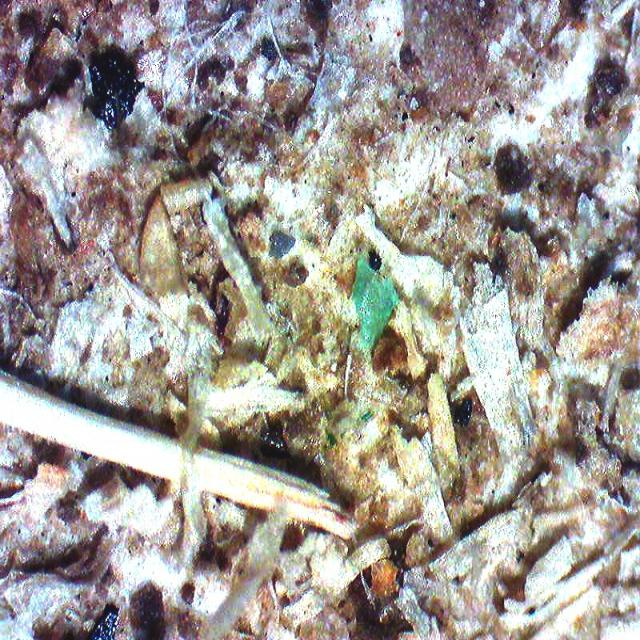microplastic: (353, 258, 405, 355)
